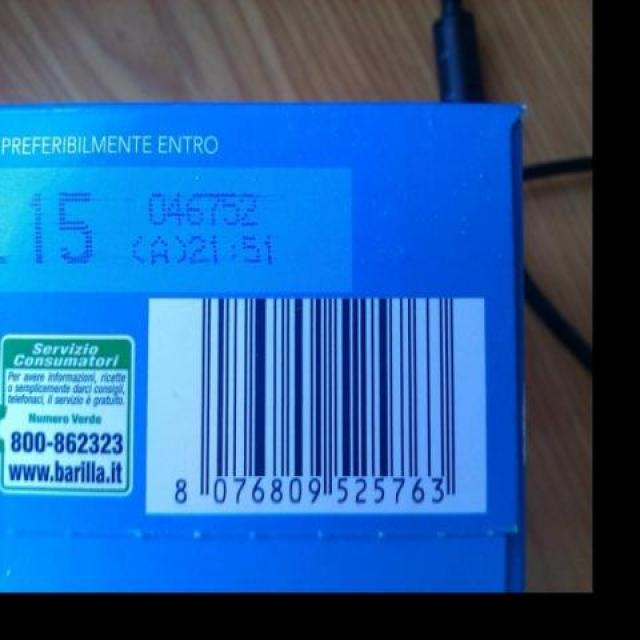Barcode: (150, 300, 483, 512)
